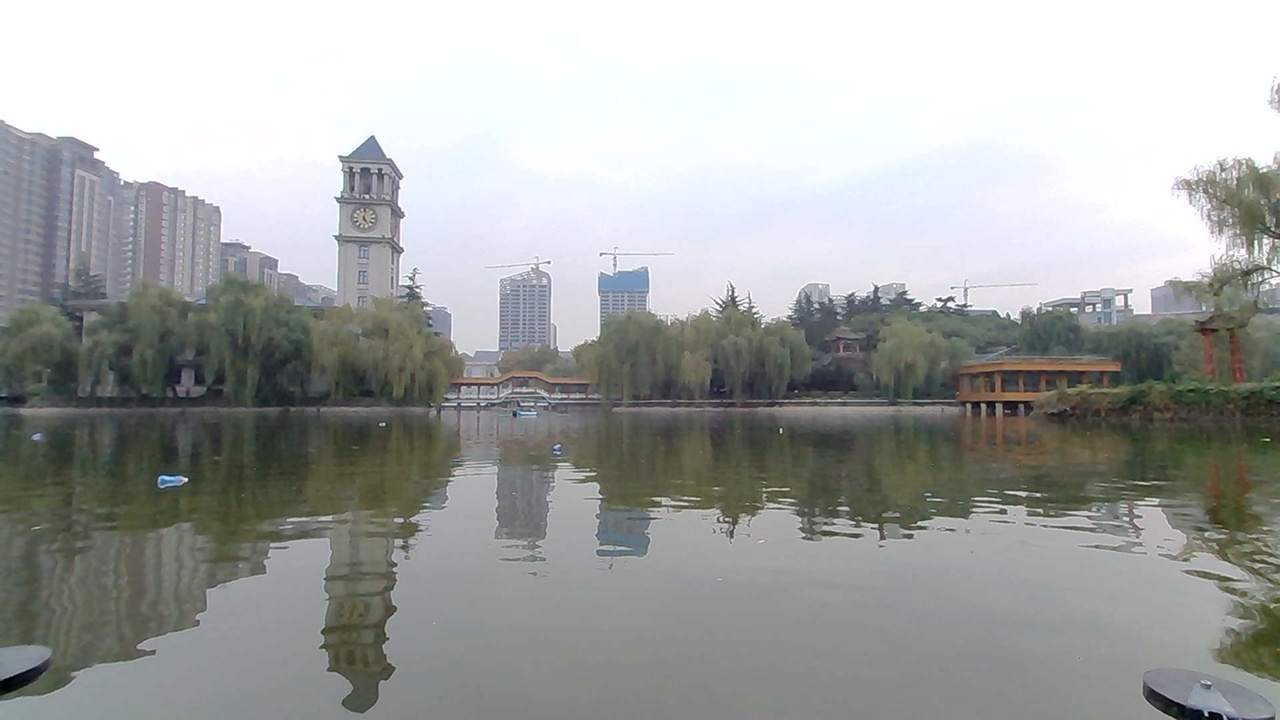bottle: (537, 431, 571, 458), (21, 426, 59, 450), (765, 417, 795, 443), (154, 471, 191, 492), (377, 410, 406, 432)
